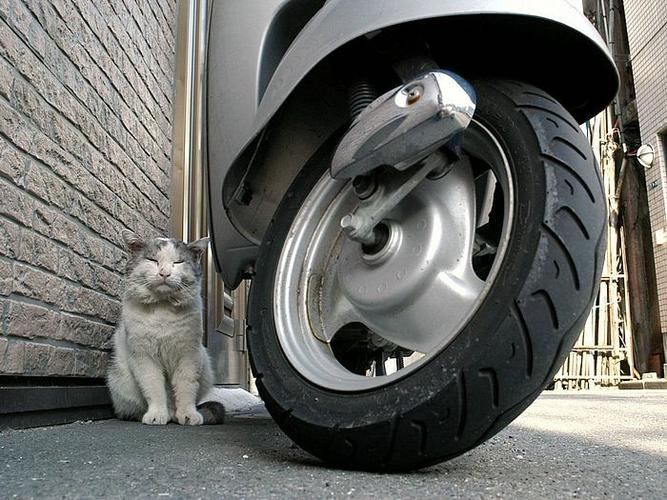cat: (106, 230, 224, 424)
